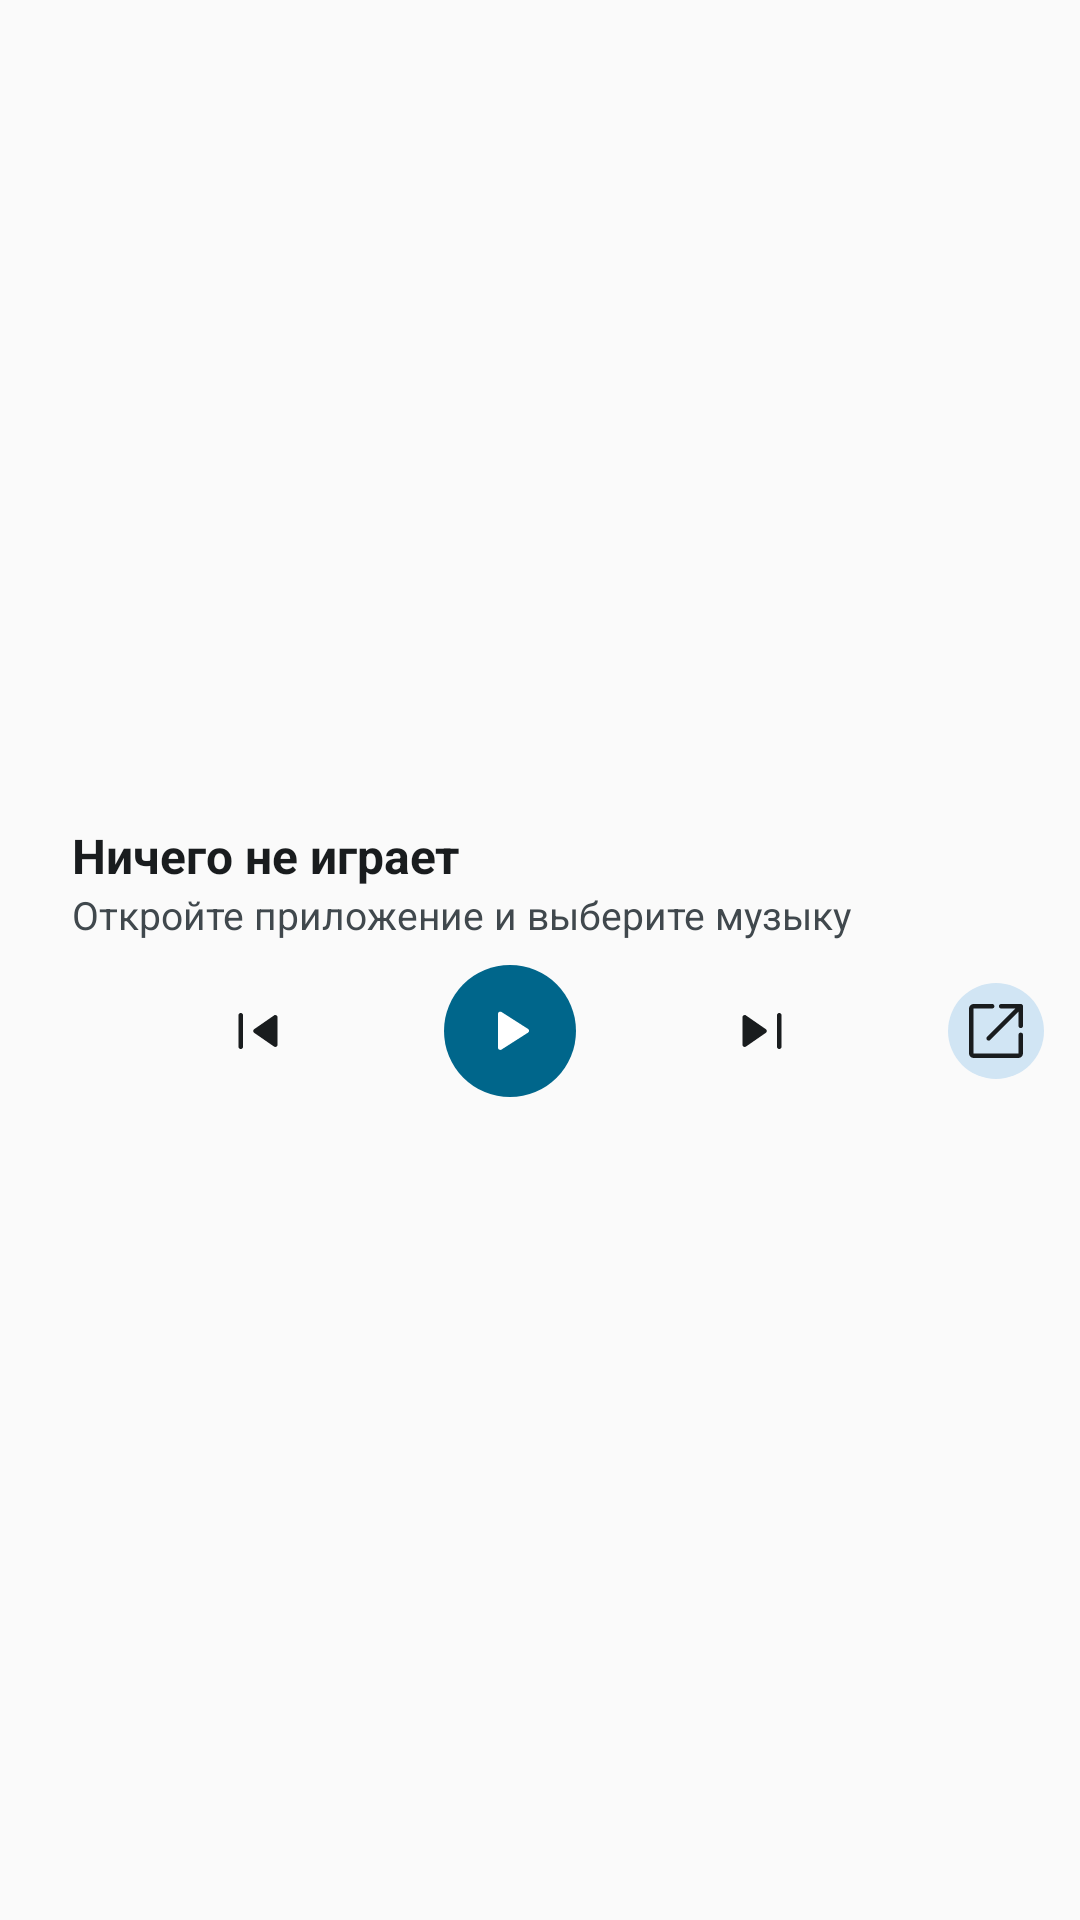

Locate icon controls on the screen. Image size 1080px x 1920px, boxes as (x1, y1, x2, y2).
Играть: (444, 965, 576, 1097)
Открыть плеер: (948, 983, 1044, 1079)
Предыдущий трек: (238, 1013, 278, 1049)
Следующий трек: (742, 1013, 782, 1049)
